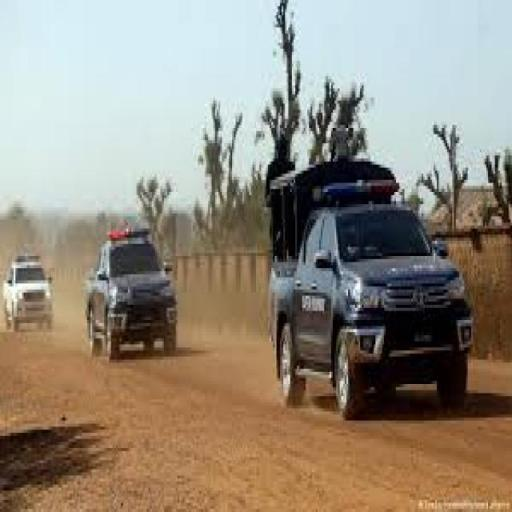Ambulance: (266, 160, 476, 414), (84, 226, 180, 363), (5, 250, 56, 337)
